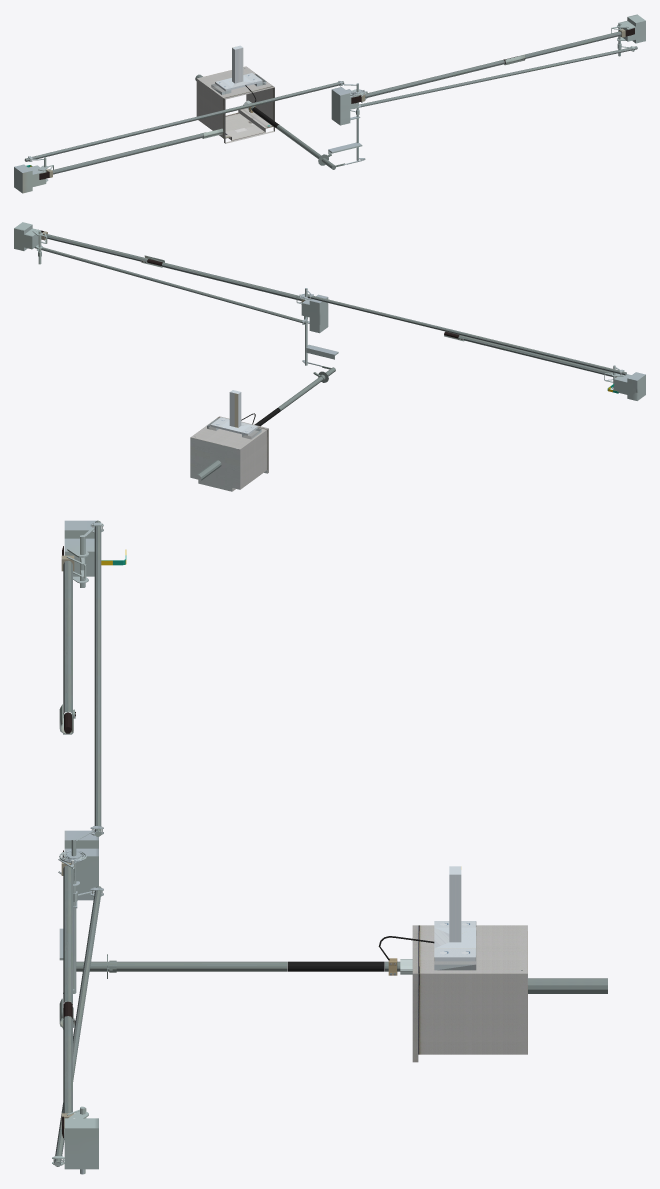
Rendered from glkg-11m32000237461068-geode.glb.
3 views of the same model, one above another, from view 1: azimuth 30°, elevation 25°; view 2: azimuth 150°, elevation 25°; view 3: azimuth 270°, elevation 25° (orthographic). The views are drawn at different scales.
Parts seen in each view (by area): view 1: Node; view 2: Node; view 3: Node.
Boxes of the visible parts, x1=… form: Node: x1=14, y1=14, x2=645, y2=193; Node: x1=14, y1=222, x2=645, y2=491; Node: x1=52, y1=520, x2=607, y2=1174.
Size of the model in its own units: 6.85 by 1.17 by 2.65.
9 materials, 9 textured.
